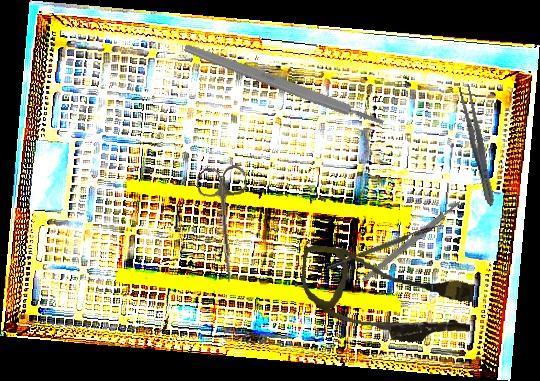Cannula: (295, 244, 478, 348)
Chopper: (324, 215, 449, 270)
Dressing Forceps: (456, 82, 499, 209)
Iris Scissors: (195, 164, 257, 285)
Scalpel Handle: (182, 41, 386, 130), (360, 199, 463, 284)
